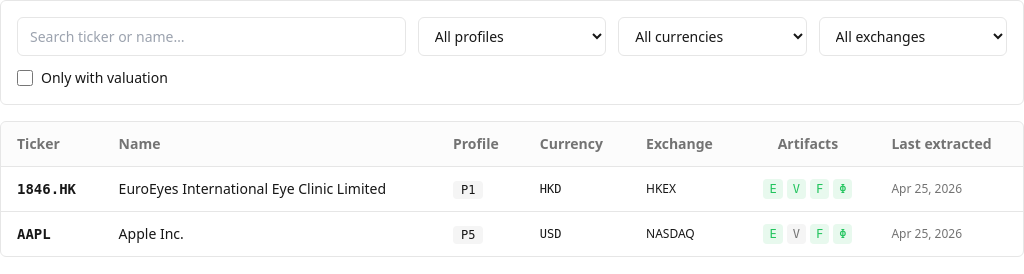
Test: TickerList › filters by profile
Select "P1" in the 1st dropdown showing "All profiles" at (512, 36), box [418,17,606,56]
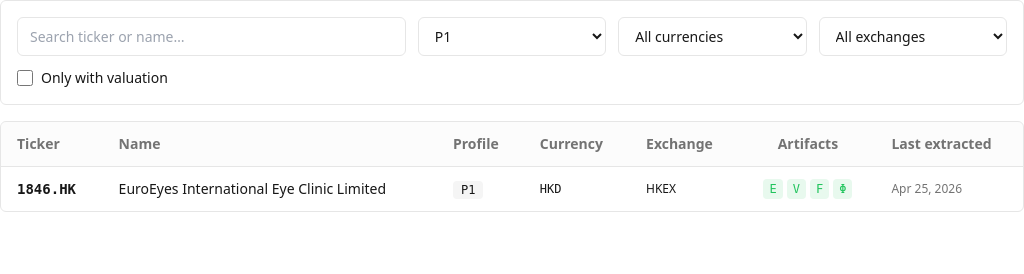
Expected: the link "1846.HK" is shown, [17,181,76,197]
Expected: the link "AAPL" is gone
